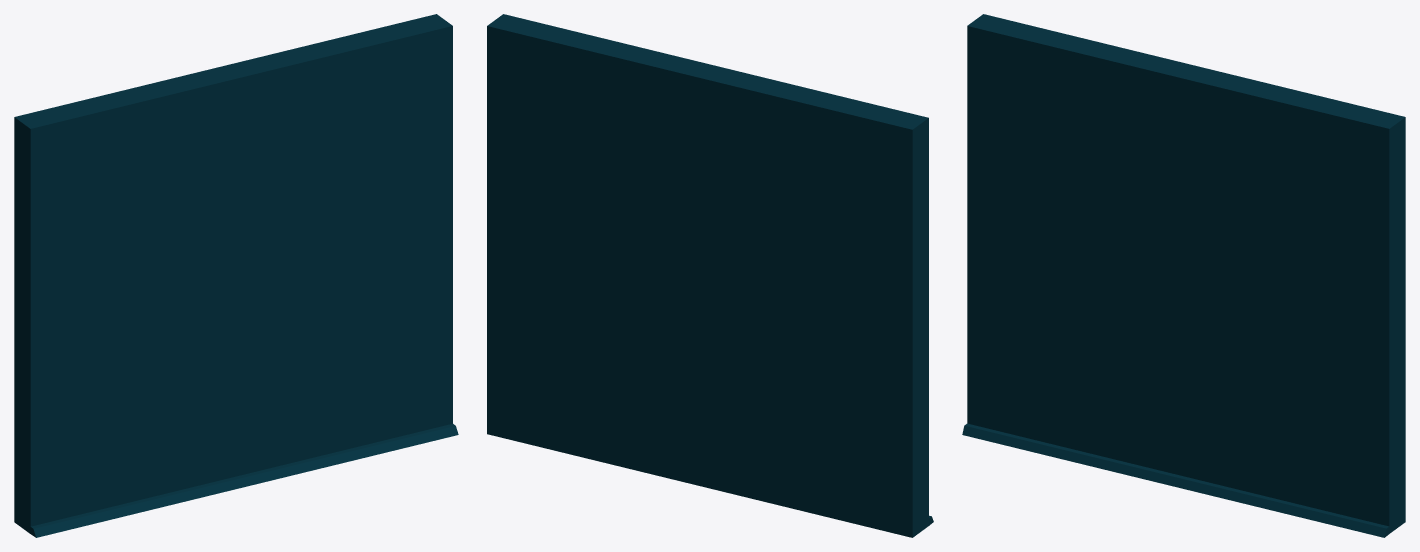
File: wall.fbx
The picture shows the model from 3 angles, left to right: view 1: azimuth 30°, elevation 25°; view 2: azimuth 150°, elevation 25°; view 3: azimuth 330°, elevation 25°; orthographic projection.
Visible parts, largest first — view 1: wall; view 2: wall; view 3: wall.
Part boxes in pixels (left/top/right/bottom): wall: left=14, top=14, right=458, bottom=537; wall: left=487, top=14, right=933, bottom=537; wall: left=962, top=14, right=1405, bottom=537.
Bounding box in the file's own units: 3003 × 266 × 2750.
